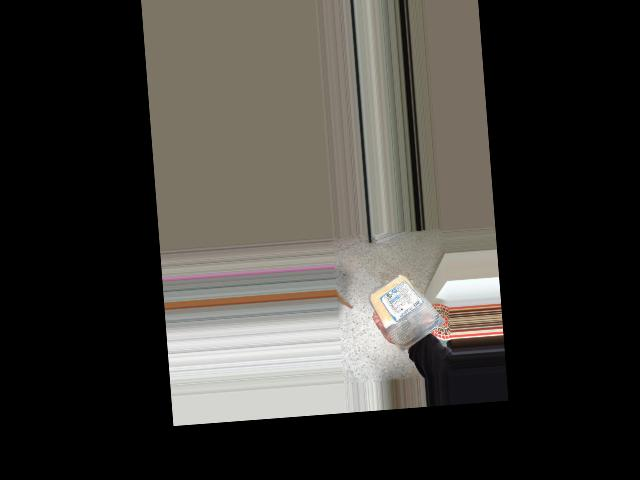cheese: (372, 269, 439, 345)
